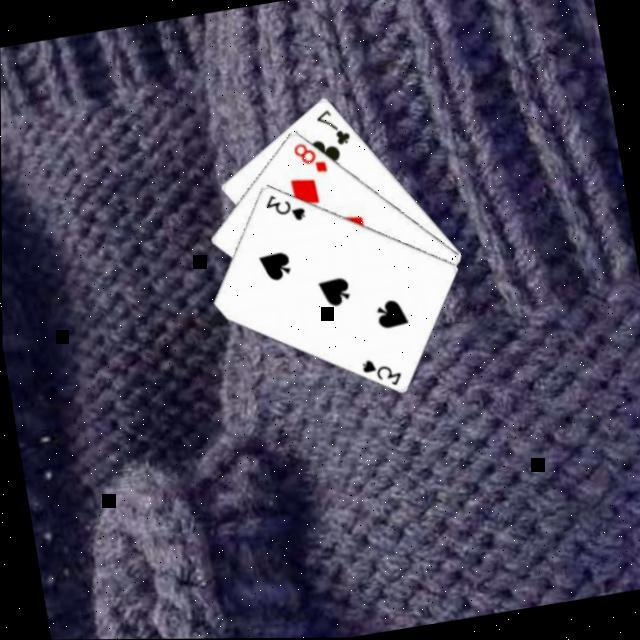3S: (260, 185, 308, 227), (356, 349, 404, 391)
7C: (311, 101, 353, 149)
8D: (287, 135, 329, 178)
